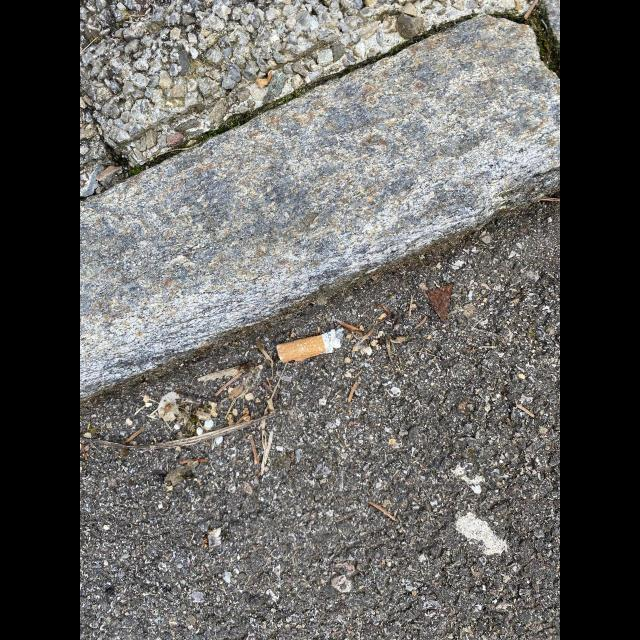cigarette: (276, 329, 341, 363)
